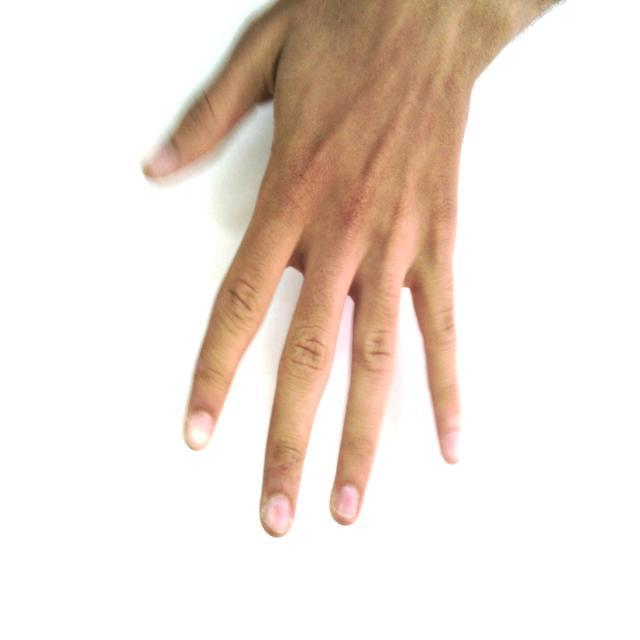Fingernail: (266, 495, 291, 534), (188, 413, 212, 448), (336, 484, 359, 519), (148, 151, 171, 173), (444, 434, 459, 461)
